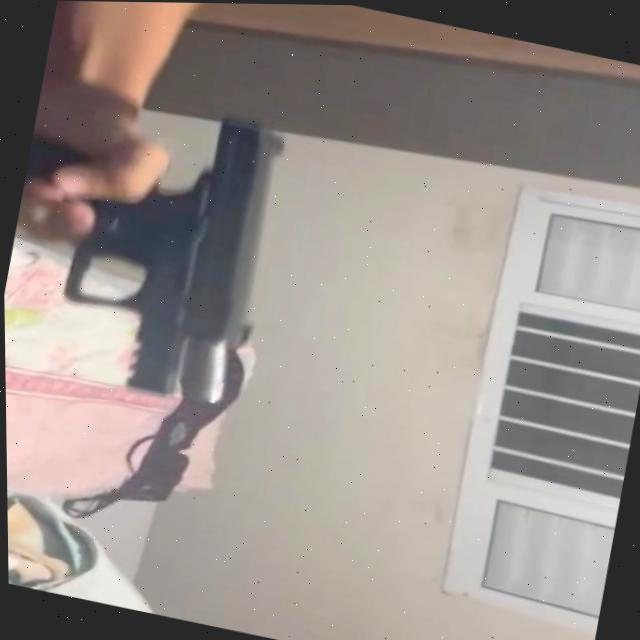gun: (43, 91, 302, 425)
